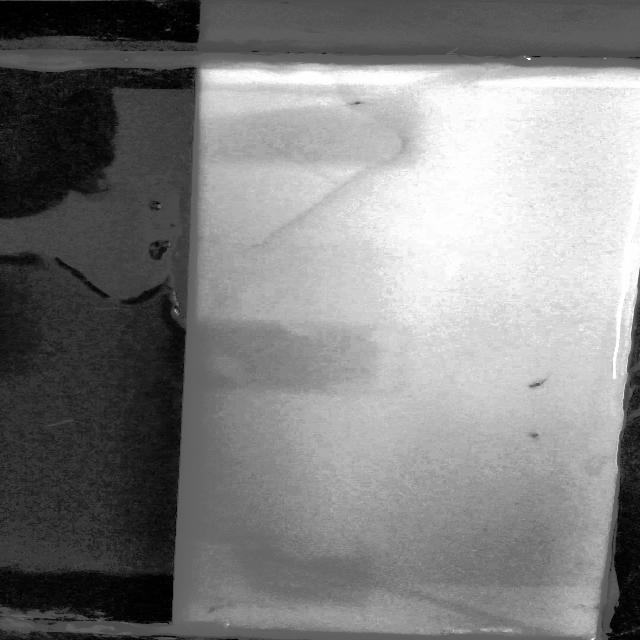shrimp: (523, 373, 564, 396), (340, 94, 369, 108), (517, 428, 544, 443), (199, 603, 221, 616)
